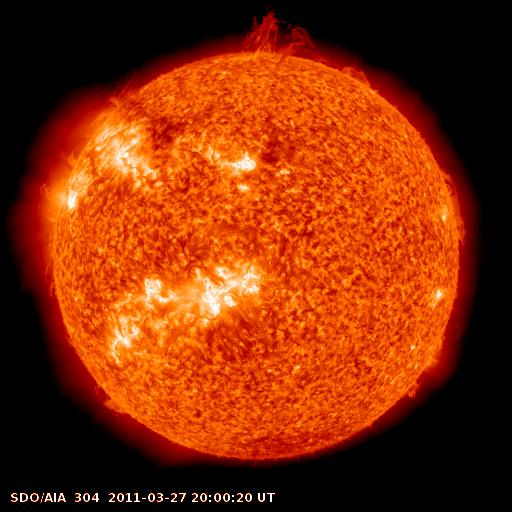prominence: (234, 9, 324, 63), (435, 161, 474, 249), (87, 74, 151, 127), (85, 377, 132, 419), (333, 52, 376, 94), (393, 368, 429, 407)
